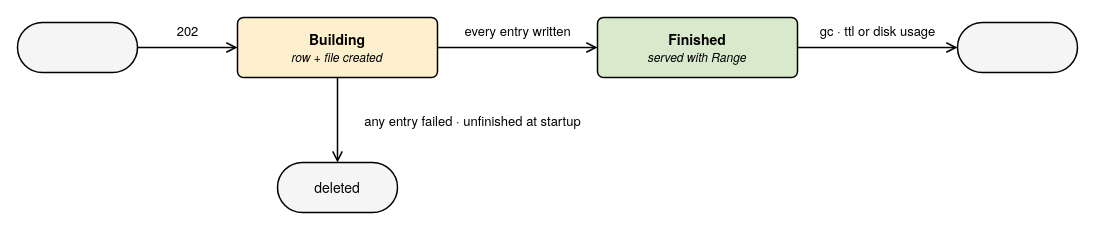
This 1096x231 diagram has some shape labels left out. The shapes that lost their labels are listed below. From the top down, each one's centre as x and y in pixels, then its label:
point (77, 47): PUT
point (1017, 47): evicted
